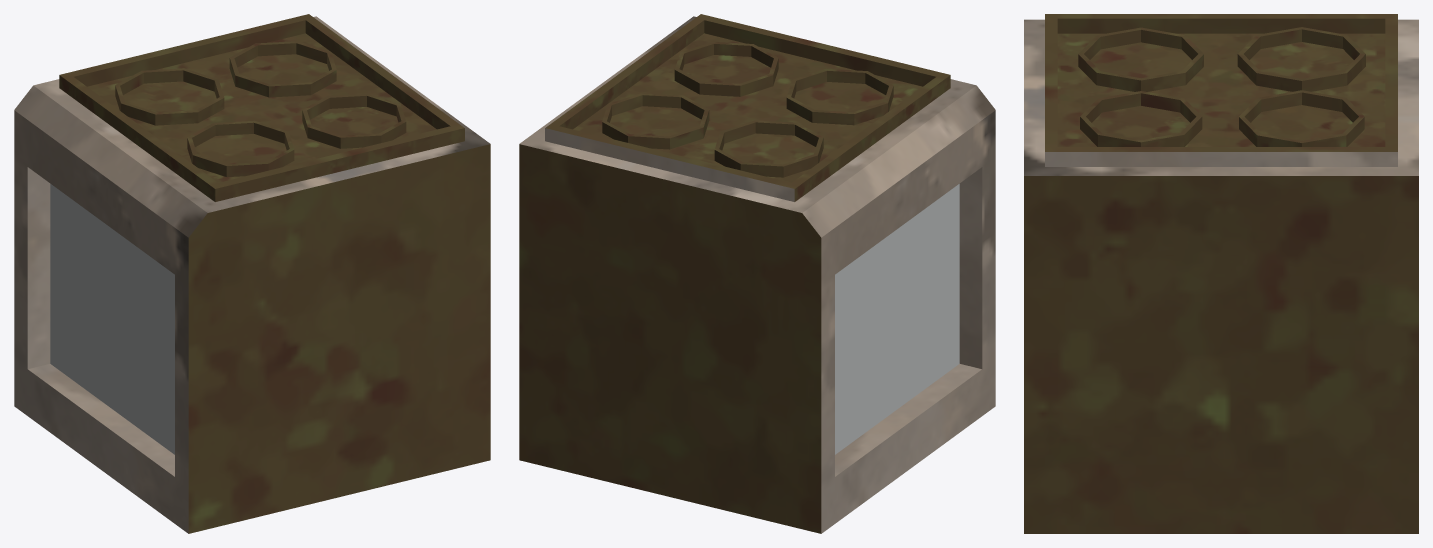
File: oven.fbx
The picture shows the model from 3 angles, left to right: view 1: azimuth 30°, elevation 25°; view 2: azimuth 150°, elevation 25°; view 3: azimuth 270°, elevation 25°; orthographic projection. The views are drawn at different scales.
Visible parts, largest first — view 1: Cube.001; view 2: Cube.001; view 3: Cube.001.
Boxes of the visible parts, x1,y1,x2,y2 form: Cube.001: (14,14,490,533); Cube.001: (519,14,995,533); Cube.001: (1024,14,1418,533).
Bounding box in the file's own units: 200 × 208 × 200.
